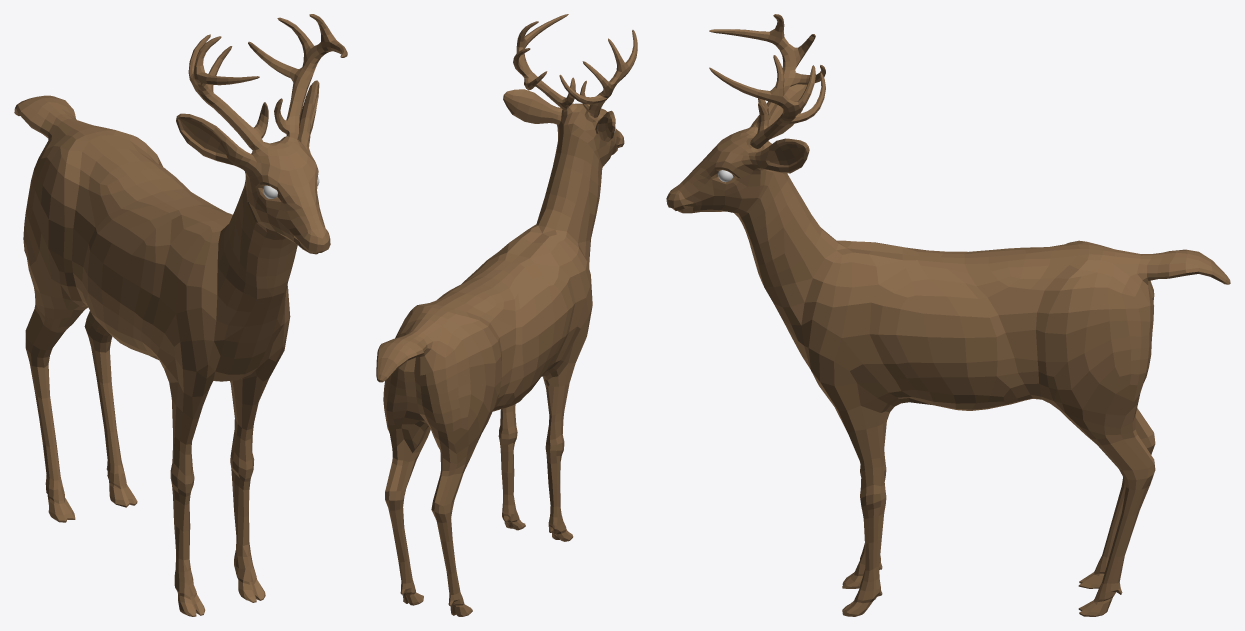
File: Dådyr_Whole.fbx
3 renders of one model, left to right at view 1: azimuth 30°, elevation 25°; view 2: azimuth 150°, elevation 25°; view 3: azimuth 270°, elevation 25°, orthographic. The views are drawn at different scales.
Parts seen in each view (by area): view 1: Deer-lowP; view 2: Deer-lowP; view 3: Deer-lowP.
Boxes of the visible parts, left/top/right/bottom form: Deer-lowP: left=14, top=14, right=347, bottom=616; Deer-lowP: left=376, top=14, right=637, bottom=616; Deer-lowP: left=666, top=14, right=1230, bottom=616.
Size of the model in its own units: 182 by 748 by 676.
